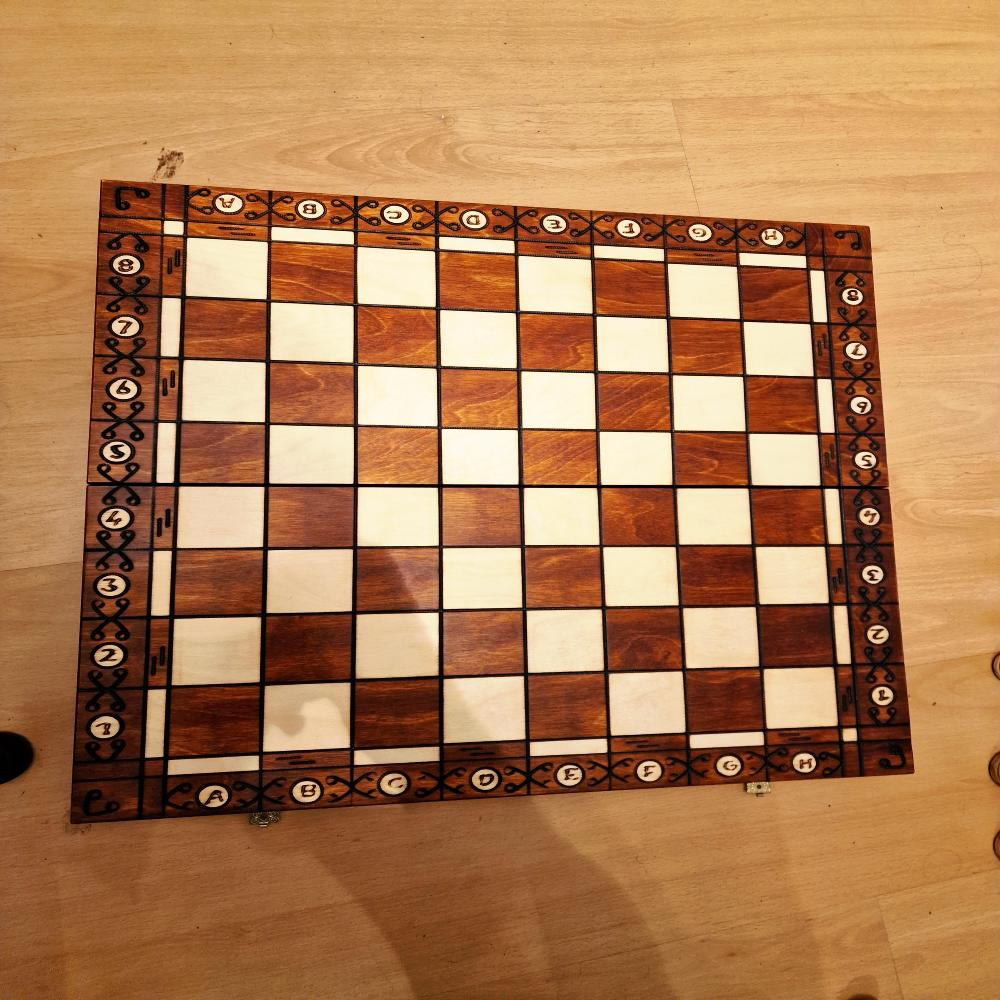chessboard-corners: (73, 182, 914, 824)
chessfield: (169, 683, 263, 758), (172, 614, 263, 688), (441, 673, 531, 747), (263, 613, 358, 683), (174, 547, 268, 617), (262, 682, 353, 754), (352, 610, 443, 681), (355, 678, 443, 749), (268, 482, 359, 550), (175, 485, 269, 550), (269, 300, 361, 365), (177, 484, 268, 549), (269, 547, 355, 615), (527, 673, 610, 743), (265, 422, 358, 484), (269, 241, 359, 305), (268, 362, 358, 426), (355, 484, 443, 549), (184, 236, 273, 300), (525, 608, 610, 675), (186, 297, 271, 363), (440, 547, 525, 613), (441, 611, 527, 676), (180, 361, 268, 424), (268, 485, 356, 548), (356, 548, 441, 613), (355, 305, 441, 367), (180, 421, 266, 483), (607, 671, 689, 736), (358, 363, 441, 427), (685, 669, 765, 735), (358, 247, 443, 309), (358, 484, 441, 547), (355, 426, 440, 487), (440, 486, 525, 547), (756, 604, 839, 666), (677, 487, 761, 548), (440, 309, 522, 371), (683, 606, 762, 670), (444, 485, 525, 547), (525, 547, 606, 609), (520, 313, 600, 375), (523, 486, 603, 548), (601, 547, 682, 608), (607, 607, 683, 672), (764, 665, 841, 729), (441, 252, 519, 314), (592, 259, 671, 320), (603, 487, 682, 548), (753, 485, 829, 548), (519, 370, 600, 429), (441, 369, 522, 428), (523, 487, 601, 548), (440, 427, 520, 486), (598, 372, 676, 432), (680, 547, 758, 607), (671, 318, 747, 378), (677, 489, 755, 547), (598, 487, 677, 544), (671, 372, 746, 432), (517, 256, 593, 315), (593, 316, 671, 373), (522, 428, 598, 486), (738, 265, 812, 323), (600, 432, 677, 487), (756, 547, 829, 605), (750, 432, 825, 487), (744, 322, 817, 378), (746, 378, 819, 433), (676, 431, 749, 485), (671, 264, 738, 318)
innerChessboard: (169, 236, 840, 757)
